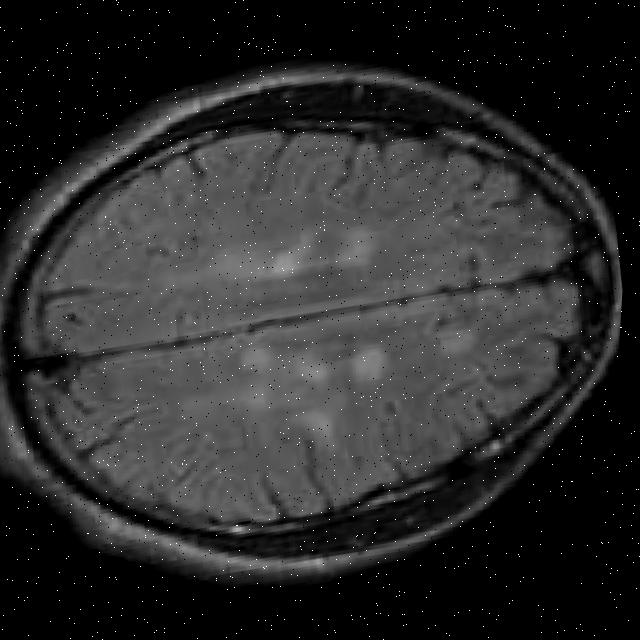NoTumor: (0, 16, 639, 630)
